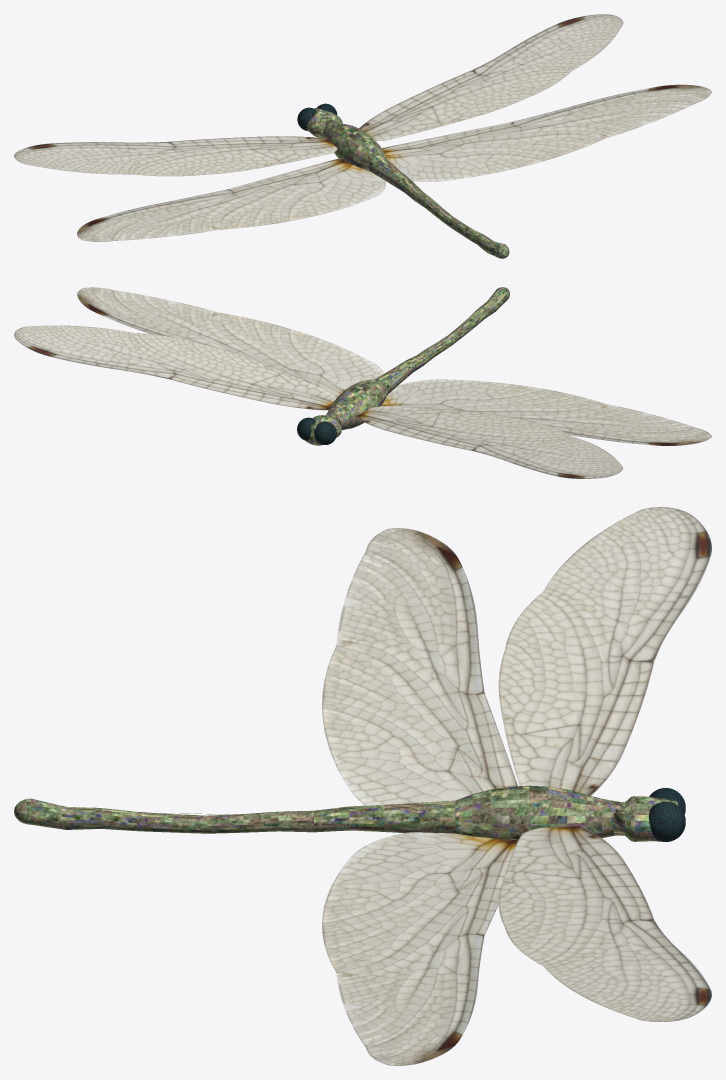
File: Dragonfly.dae
3 views of the same model, one above another, from view 1: azimuth 30°, elevation 25°; view 2: azimuth 150°, elevation 25°; view 3: azimuth 270°, elevation 25° (orthographic). The views are drawn at different scales.
Parts seen in each view (by area): view 1: SketchUp (×3), Component_11, Component_8; view 2: SketchUp (×3), Component_11, Component_8, Component_10; view 3: SketchUp (×3), Component_11, Component_8, Component_10.
Part boxes in pixels (x1=…): SketchUp (×3): x1=14, y1=84, x2=711, y2=241; Component_11: x1=359, y1=14, x2=623, y2=140; Component_8: x1=306, y1=108, x2=509, y2=258; SketchUp (×3): x1=77, y1=287, x2=711, y2=478; Component_11: x1=14, y1=325, x2=336, y2=410; Component_8: x1=305, y1=287, x2=509, y2=445; Component_10: x1=314, y1=421, x2=336, y2=444; SketchUp (×3): x1=322, y1=507, x2=711, y2=1065; Component_11: x1=498, y1=825, x2=711, y2=1021; Component_8: x1=14, y1=785, x2=678, y2=841; Component_10: x1=649, y1=801, x2=685, y2=841.
Size of the model in its own units: 22.67 by 12.63 by 1.76.
